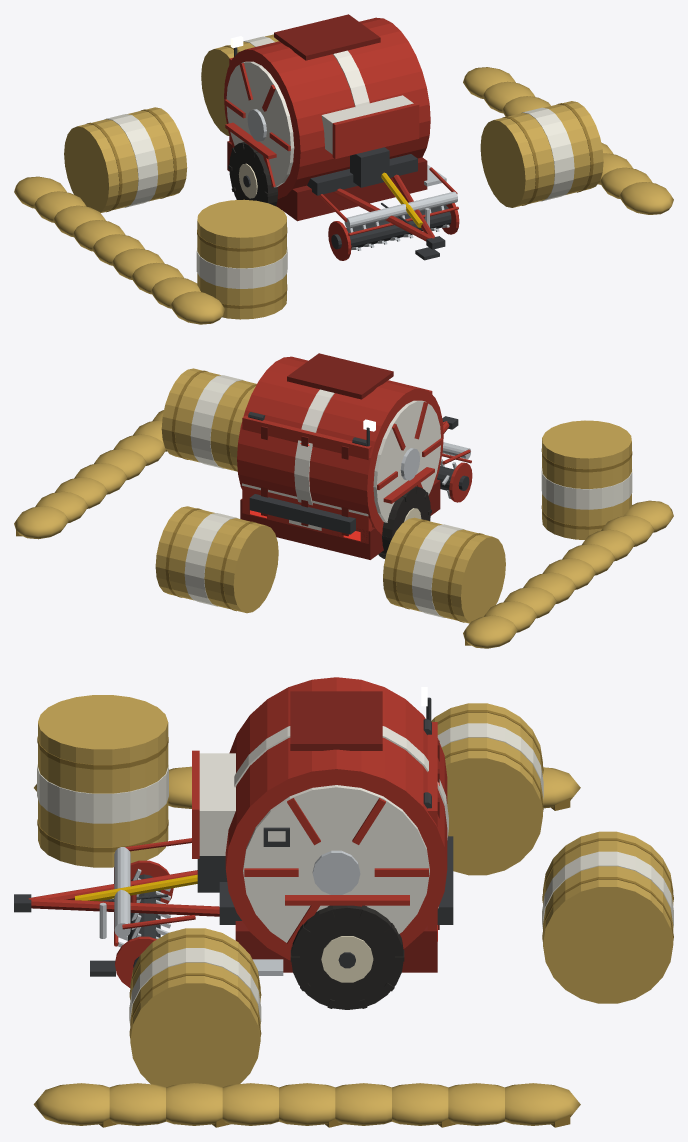
Rendered from roll_baler.glb.
The picture shows the model from 3 angles, top to bottom: view 1: azimuth 30°, elevation 25°; view 2: azimuth 150°, elevation 25°; view 3: azimuth 270°, elevation 25°; orthographic projection. The views are drawn at different scales.
Visible parts, largest first — view 1: BalerBody, RoundBales, Windrows, PickupUnit; view 2: RoundBales, BalerBody, Windrows, TailGate, PickupUnit; view 3: BalerBody, RoundBales, Windrows, PickupUnit, TailGate.
Boxes of the visible parts, x1,y1,x2,y2 form: BalerBody: (224,14,458,260); RoundBales: (64,34,603,319); Windrows: (14,67,673,324); PickupUnit: (328,203,459,260); RoundBales: (155,368,632,623); BalerBody: (237,353,471,559); Windrows: (14,410,673,648); TailGate: (242,412,371,543); PickupUnit: (437,459,472,502); BalerBody: (14,677,453,1009); RoundBales: (37,695,673,1087); Windrows: (33,766,580,1127); PickupUnit: (115,860,173,987); TailGate: (423,719,439,941).
Bounding box in the file's own units: 7.58 × 2.44 × 6.08.
